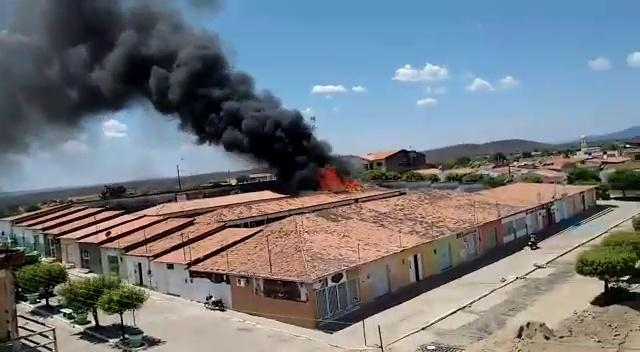smoke: (28, 0, 147, 85)
